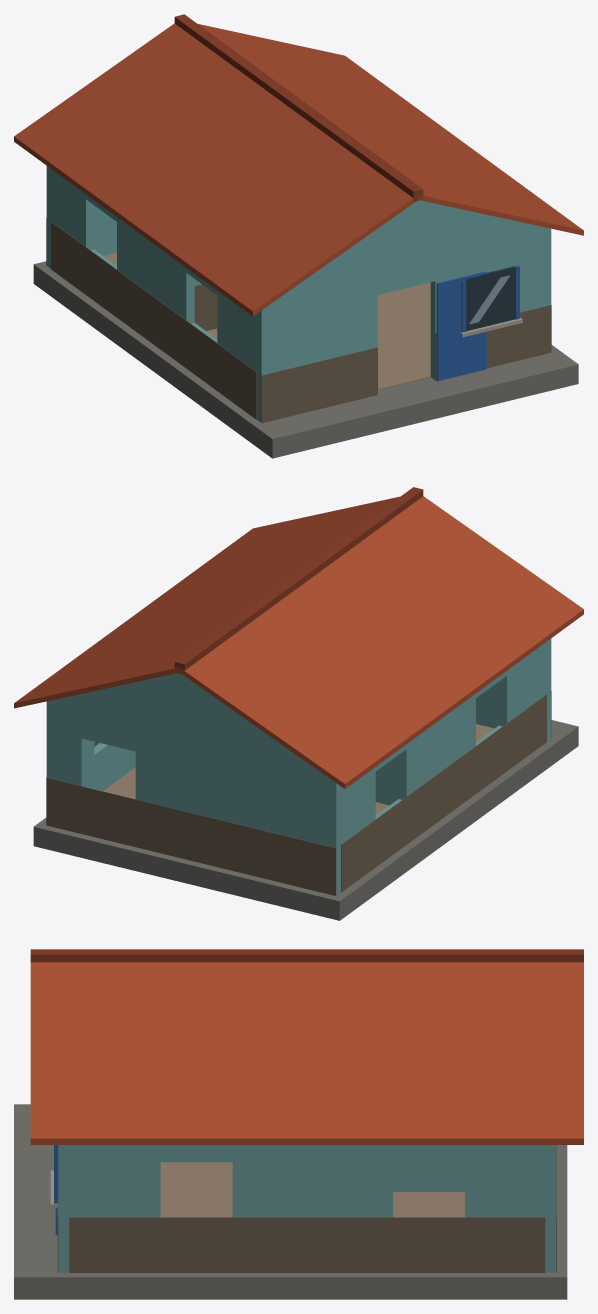
The model's file is casa_piloto_a.glb.
3 views of the same model, one above another, from view 1: azimuth 30°, elevation 25°; view 2: azimuth 150°, elevation 25°; view 3: azimuth 270°, elevation 25° (orthographic). The views are drawn at different scales.
Parts seen in each view (by area): view 1: casa_piloto_a; view 2: casa_piloto_a; view 3: casa_piloto_a.
Part boxes in pixels (x1=…): casa_piloto_a: x1=14, y1=14, x2=583, y2=458; casa_piloto_a: x1=14, y1=487, x2=583, y2=920; casa_piloto_a: x1=14, y1=949, x2=583, y2=1299.
Bounding box in the file's own units: 8 × 5.21 × 10.3.
